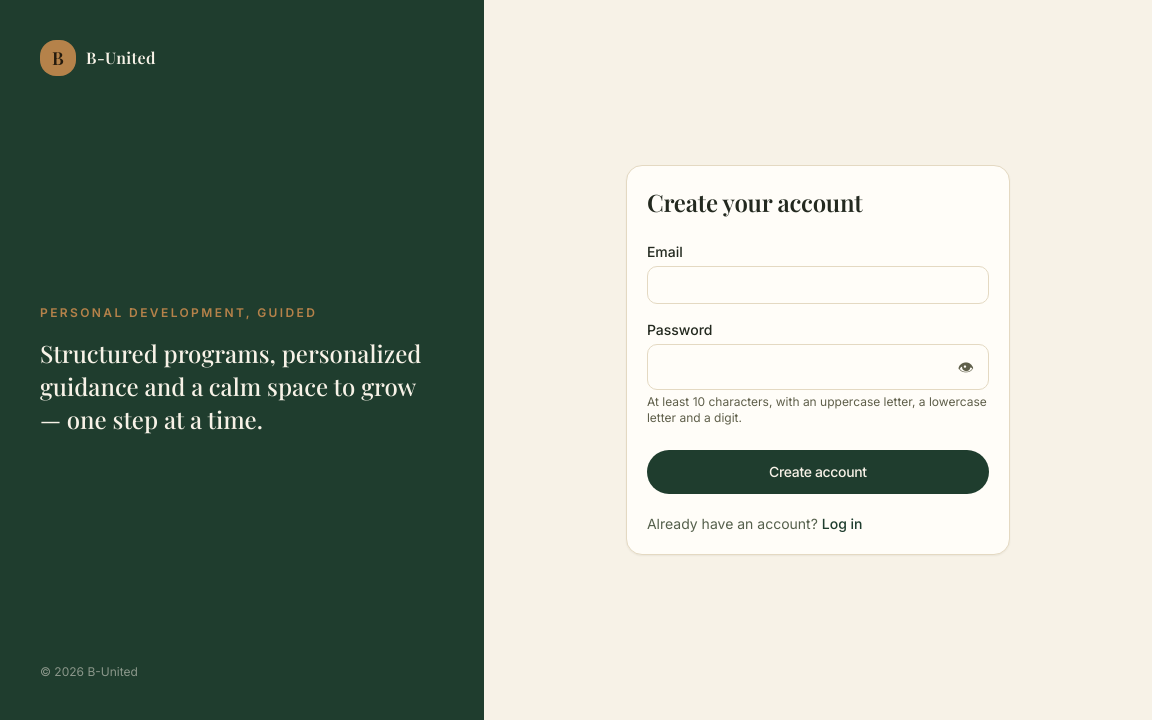
Scenario: RegisterPage › shows a duplicate-email error against the email field
In the field labelled "Email": {"x": 818, "y": 285} [647,266,989,304], type "taken@example.com"
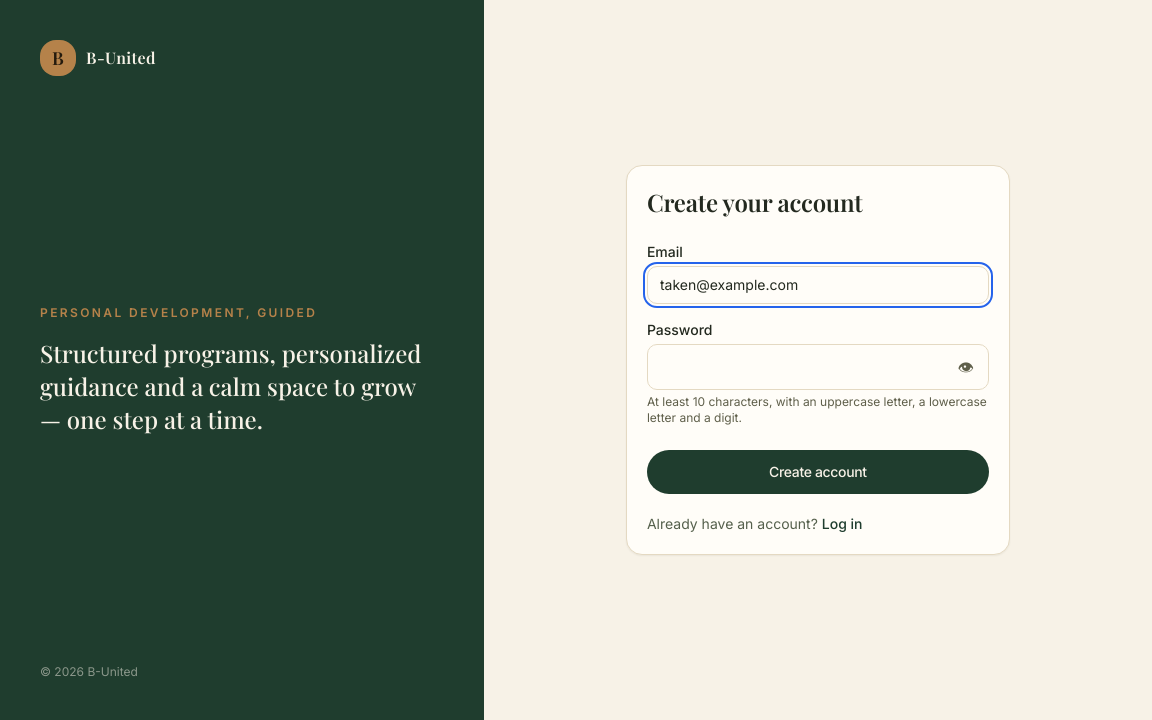
In the password field labelled "Password": {"x": 796, "y": 367} [648,349,944,385], type "StrongPass123"
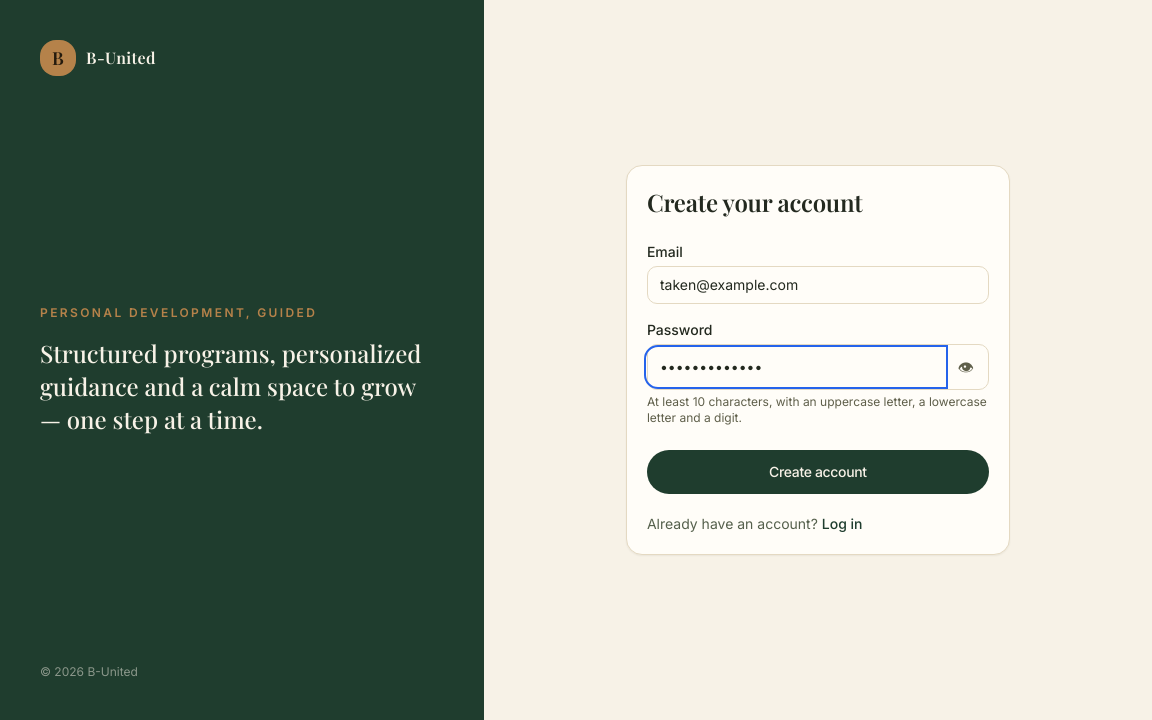
Click the button "Create account": {"x": 818, "y": 472} [647,450,989,494]
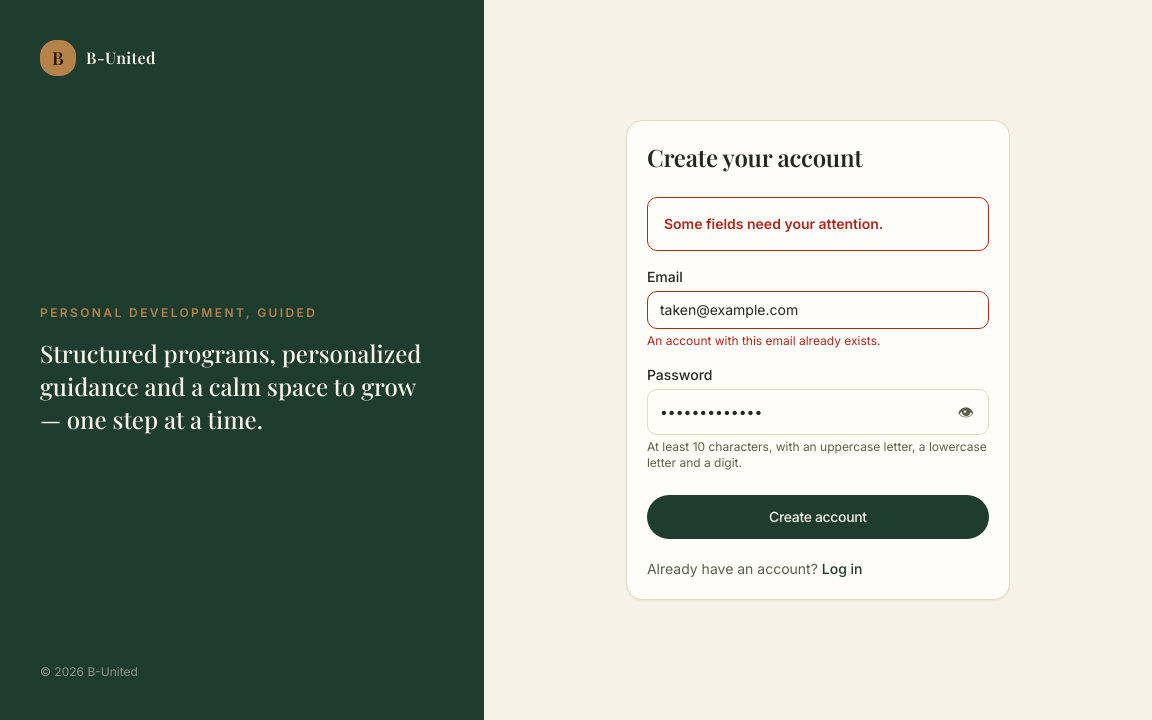
Now the text "An account with this email already exists." is shown, box [647,333,880,348]
